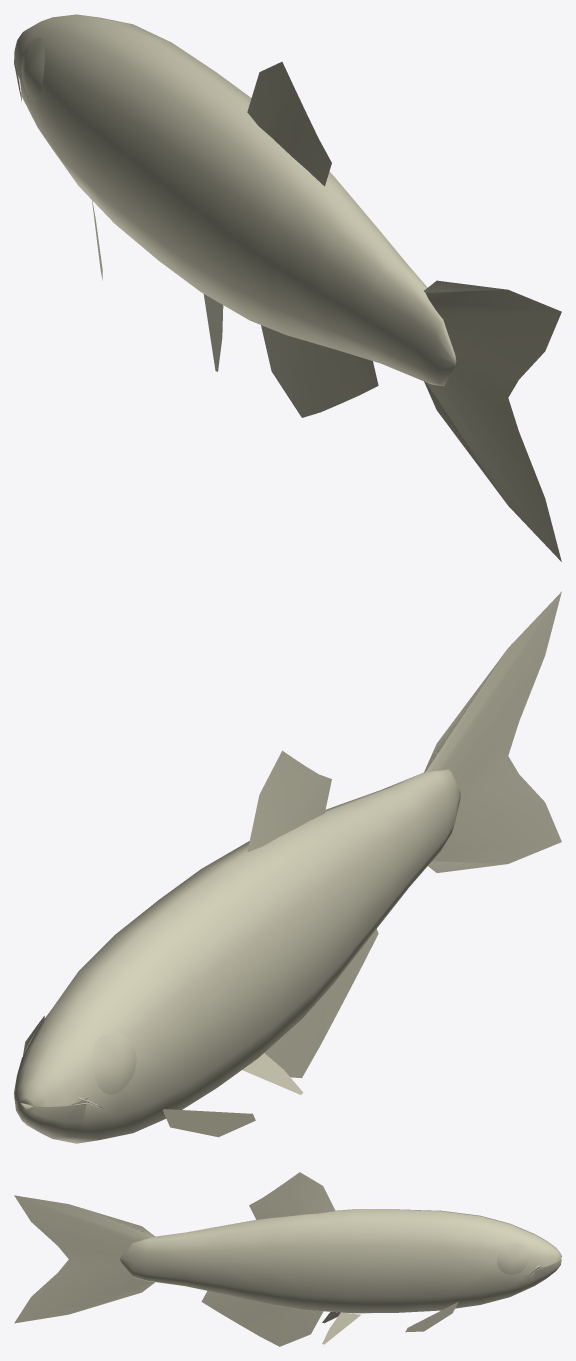
Rendered from zebra_danio_game.glb.
The picture shows the model from 3 angles, top to bottom: view 1: azimuth 30°, elevation 25°; view 2: azimuth 150°, elevation 25°; view 3: azimuth 270°, elevation 25°; orthographic projection. The views are drawn at different scales.
Parts seen in each view (by area): view 1: zebra_danio_game; view 2: zebra_danio_game; view 3: zebra_danio_game.
Boxes of the visible parts, x1=… form: zebra_danio_game: x1=14, y1=14, x2=561, y2=561; zebra_danio_game: x1=14, y1=591, x2=561, y2=1143; zebra_danio_game: x1=14, y1=1172, x2=561, y2=1346.
Size of the model in its own units: 0.00742 by 0.0158 by 0.0449.
